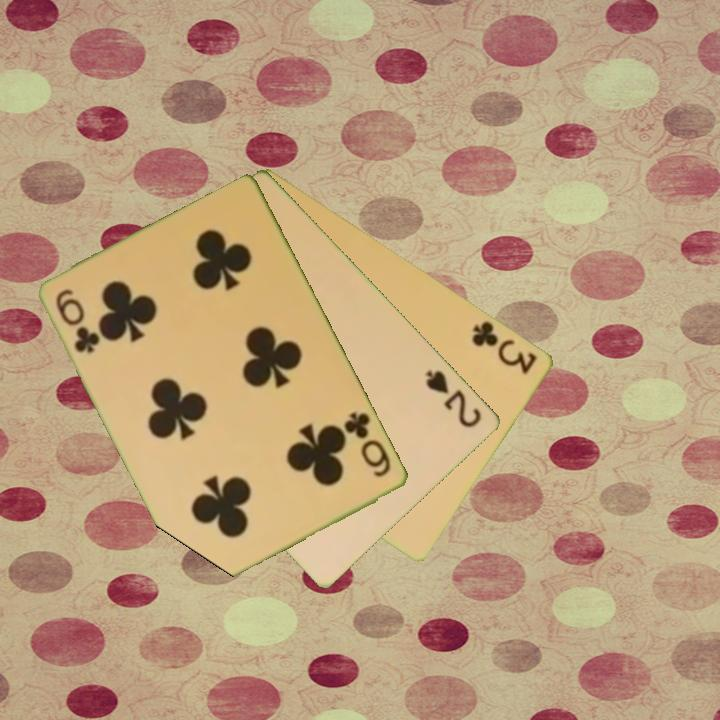2s: (422, 366, 485, 431)
3c: (468, 317, 540, 377)
6c: (341, 408, 395, 481), (52, 285, 104, 356)
